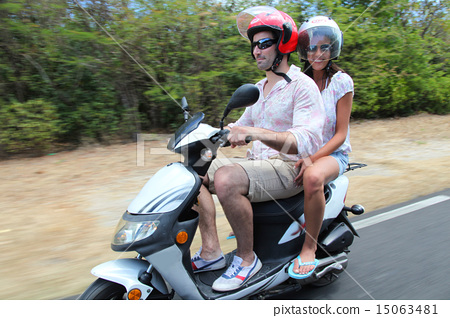helmet: (241, 10, 299, 60), (298, 14, 341, 57)
